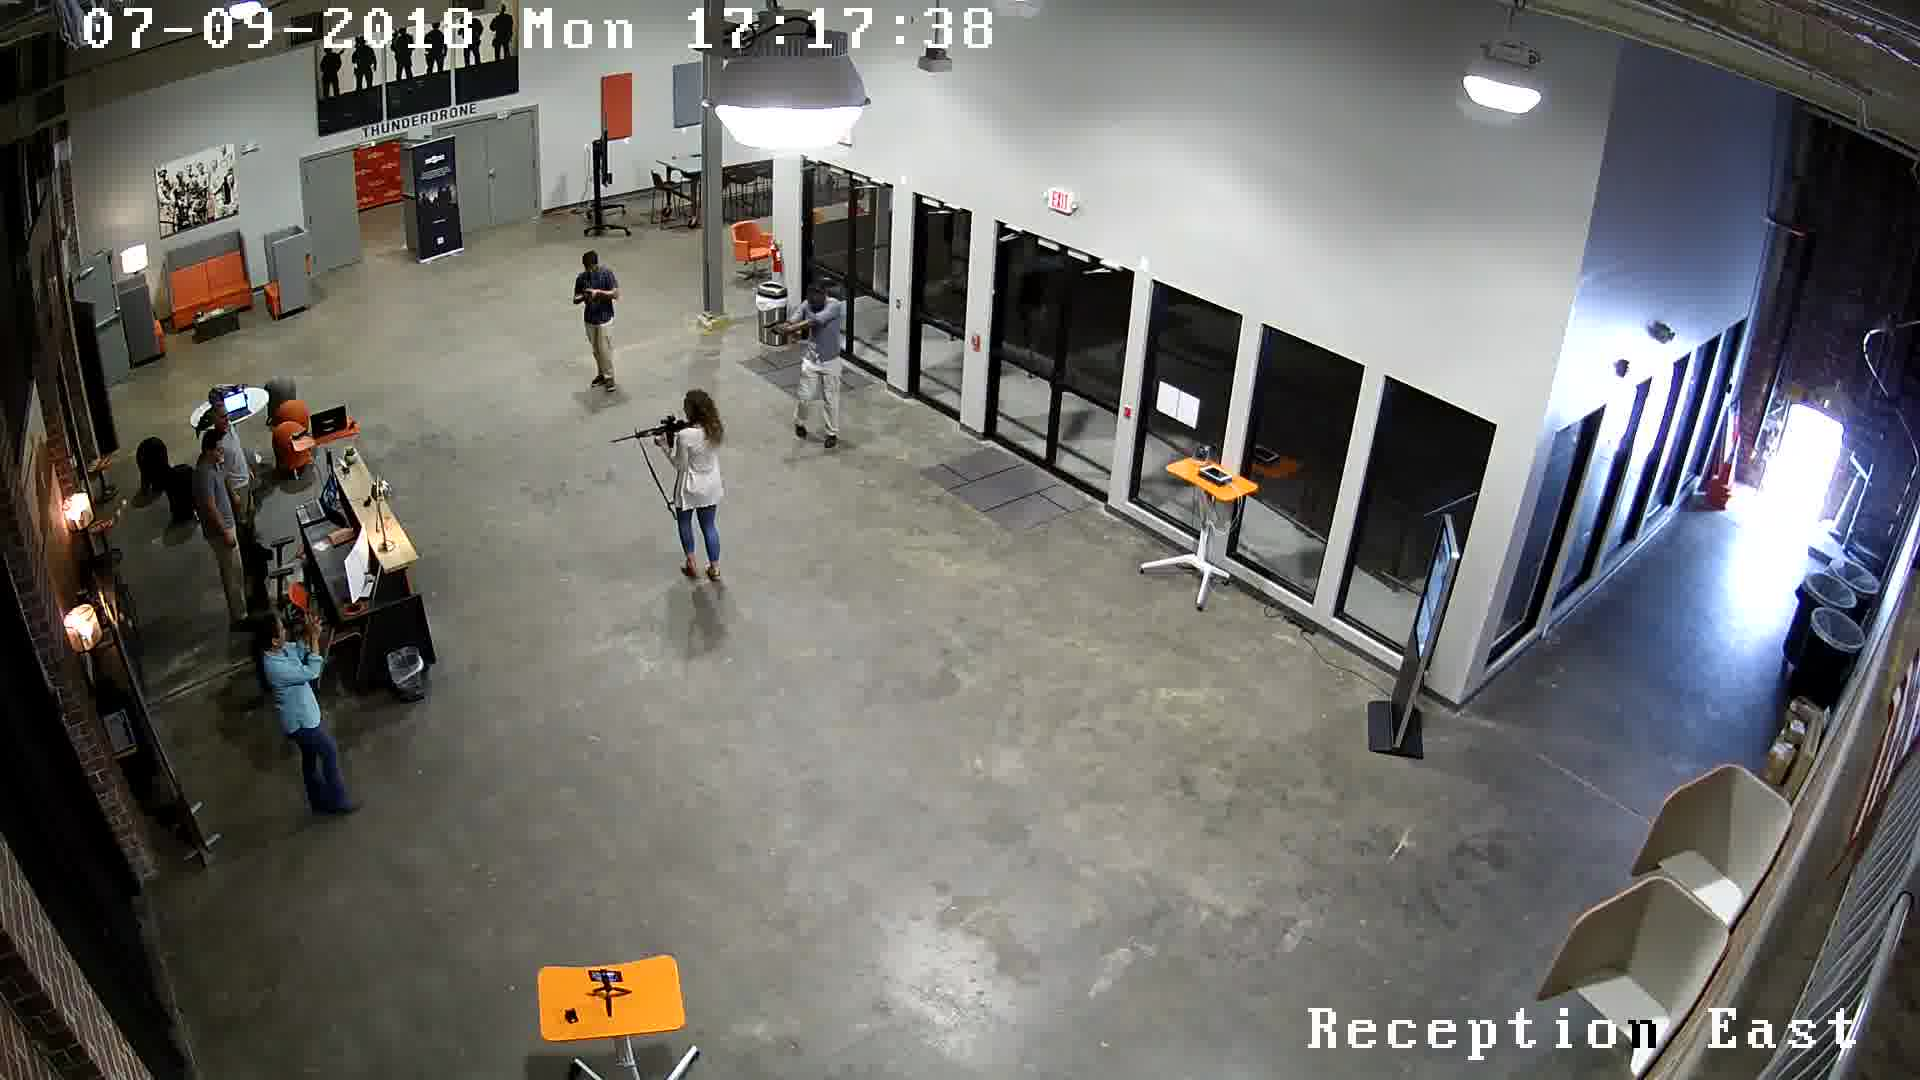pistol: (756, 314, 794, 343)
